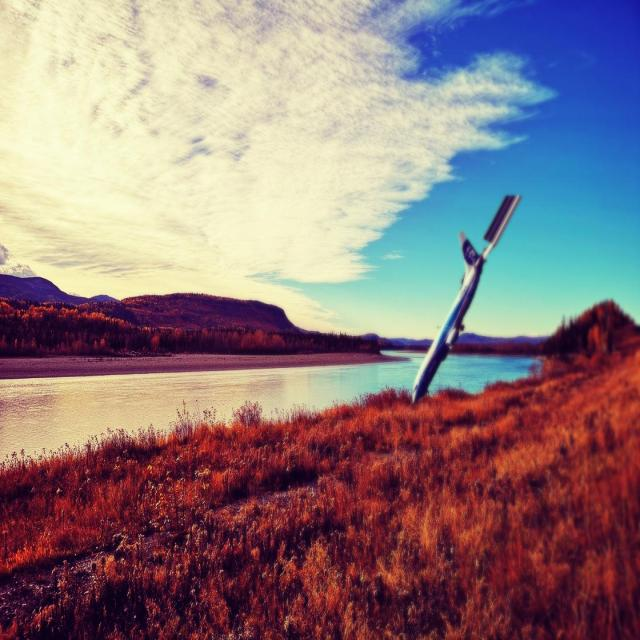airplane: (411, 192, 521, 404)
